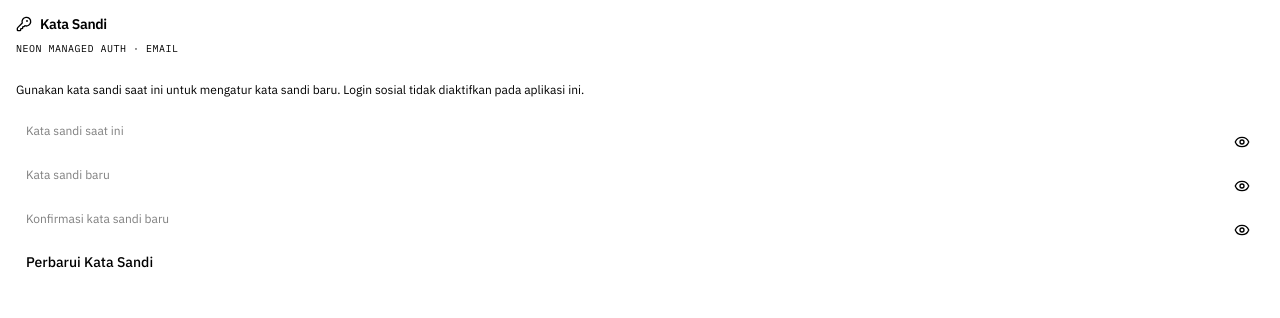
Test: Formulir kata sandi Neon Auth › menolak kata sandi saat ini yang kosong
Type "rahasia123" into the password field with placeholder "Kata sandi baru" at (640, 174), box 16,158 -> 1264,190
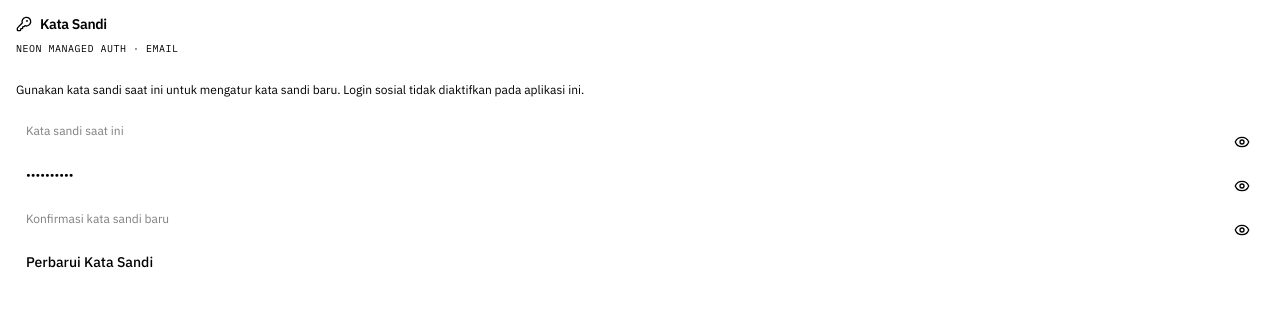
Type "rahasia123" into the password field with placeholder "Konfirmasi kata sandi baru" at (640, 218), box 16,202 -> 1264,234
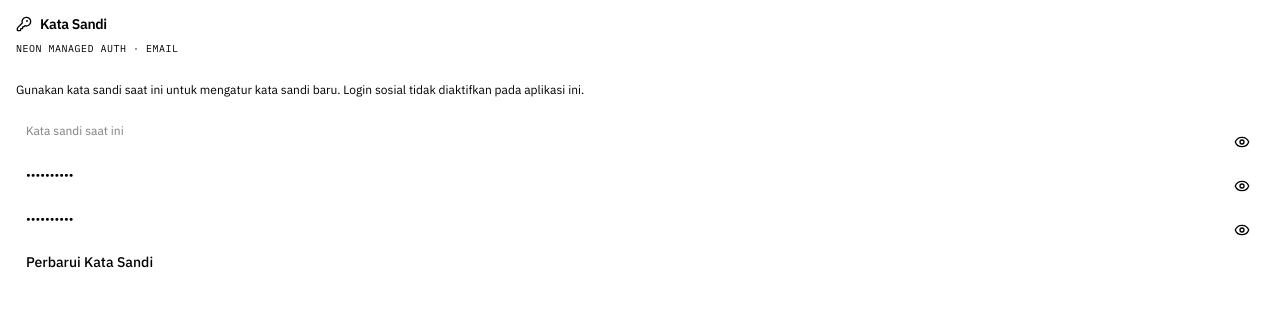
Submit the form with placeholder "Kata sandi baru", box 16,114 -> 1264,278
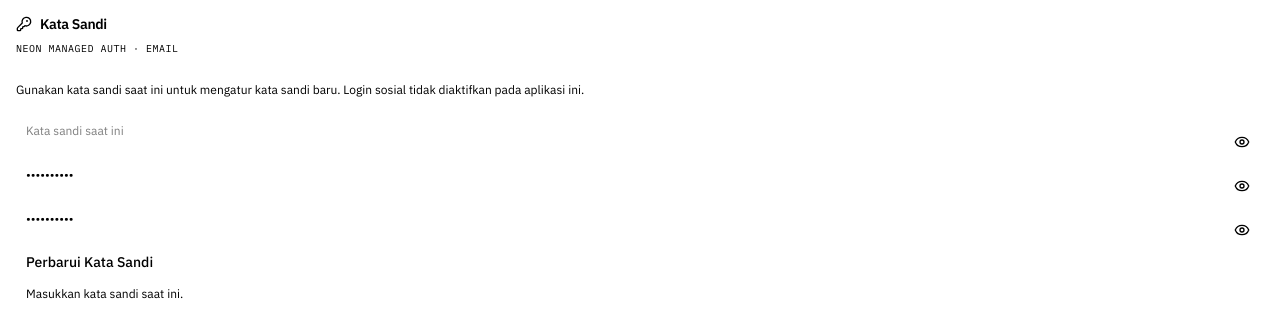
Now the text "Masukkan kata sandi saat ini." is shown, box 26,286 -> 183,301
